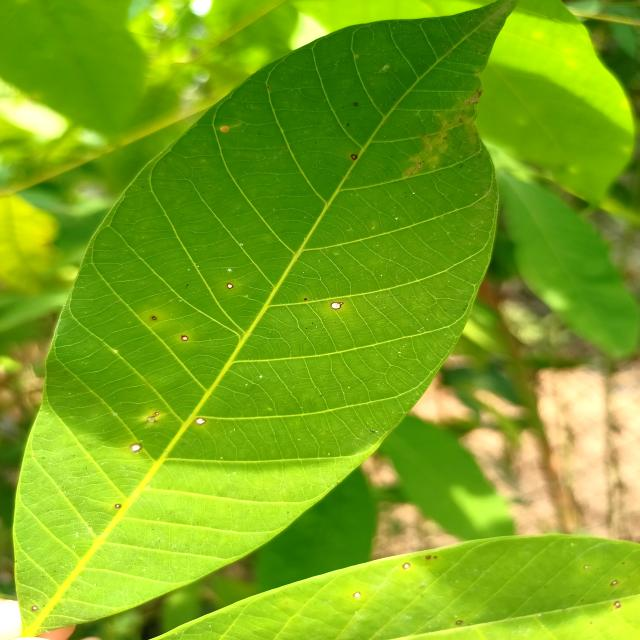Colletotrichum: (130, 443, 142, 452), (331, 302, 344, 310), (195, 418, 206, 425), (226, 283, 234, 289), (350, 154, 358, 160), (402, 563, 410, 569), (610, 580, 618, 586), (148, 417, 155, 423), (353, 592, 360, 598), (182, 335, 188, 341), (614, 600, 620, 606), (456, 620, 462, 625), (115, 504, 122, 508), (32, 606, 38, 610), (152, 316, 156, 320), (155, 412, 159, 415), (304, 298, 308, 300)
